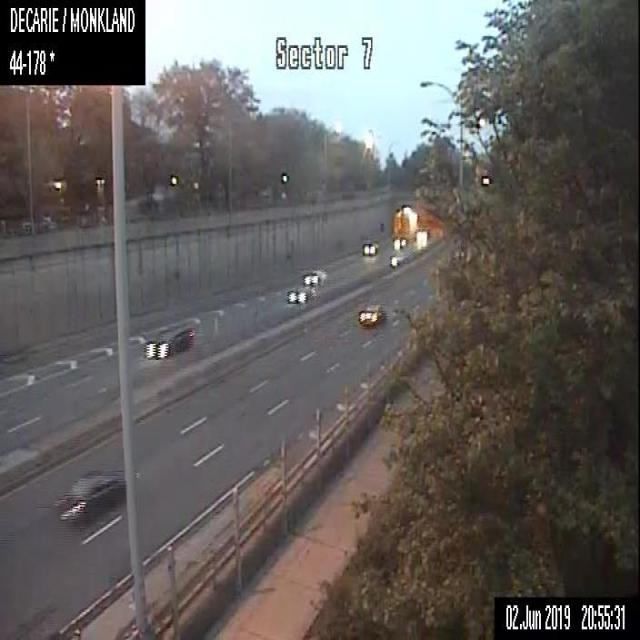vehicle: (56, 468, 126, 524), (143, 324, 195, 357), (358, 306, 386, 326), (286, 286, 312, 304), (302, 269, 327, 287), (390, 253, 406, 266), (361, 240, 377, 253), (413, 227, 427, 240), (392, 234, 406, 247)
